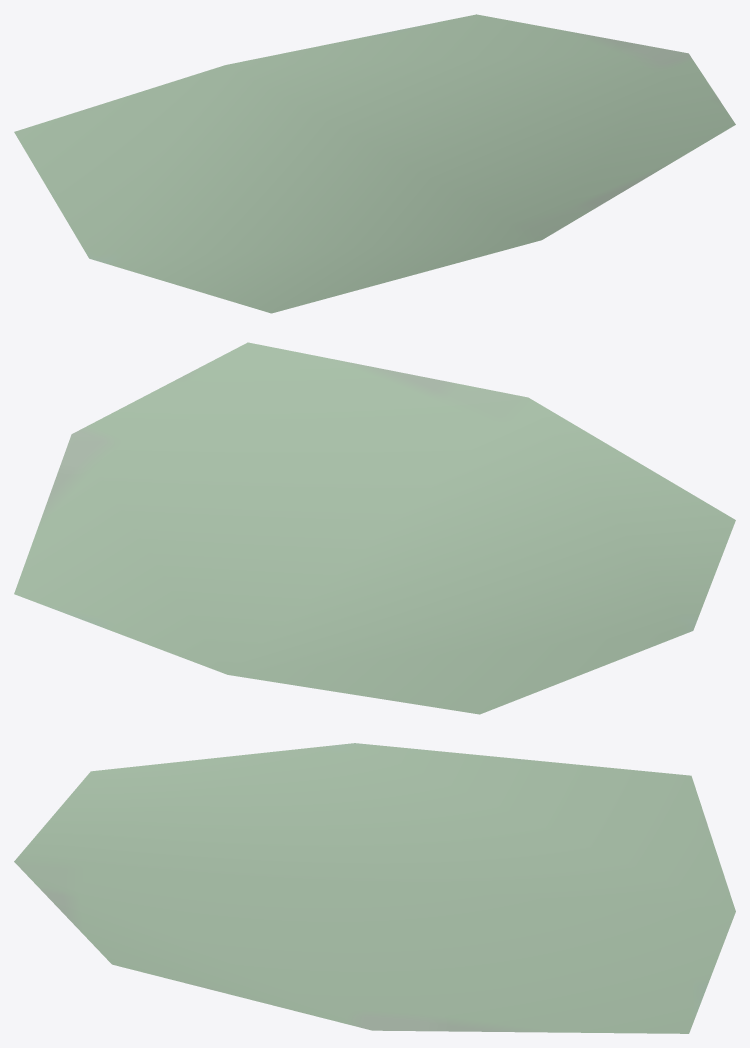
File: TROLLHOLE02_HOLECAP34.fbx
3 views of the same model, one above another, from view 1: azimuth 30°, elevation 25°; view 2: azimuth 150°, elevation 25°; view 3: azimuth 270°, elevation 25° (orthographic). The views are drawn at different scales.
Visible parts, largest first — view 1: TROLLHOLE02_HOLECAP34; view 2: TROLLHOLE02_HOLECAP34; view 3: TROLLHOLE02_HOLECAP34.
Part boxes in pixels (x1,y1,x2,y2): TROLLHOLE02_HOLECAP34: (14, 14, 735, 313); TROLLHOLE02_HOLECAP34: (14, 342, 735, 714); TROLLHOLE02_HOLECAP34: (14, 743, 735, 1033).
Size of the model in its own units: 25293 by 3062 by 22149.
Materials: 1 (1 with a texture image).
